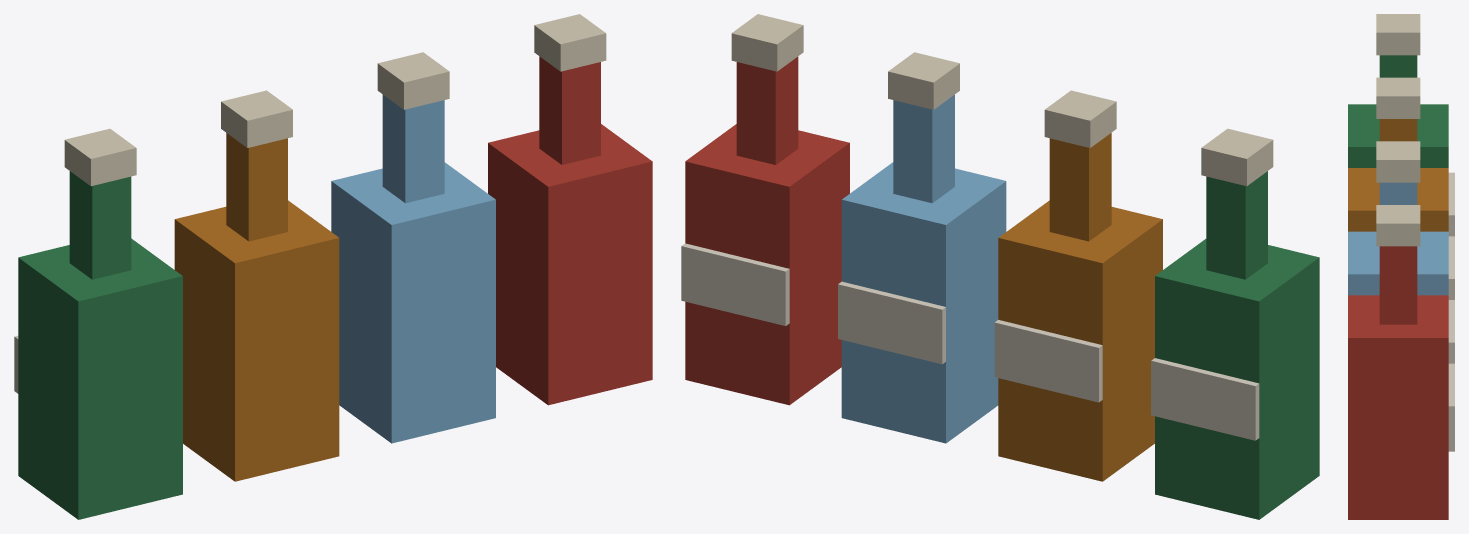
The model's file is cp-shelf-bottles.glb.
3 renders of one model, left to right at view 1: azimuth 30°, elevation 25°; view 2: azimuth 150°, elevation 25°; view 3: azimuth 270°, elevation 25°, orthographic. The views are drawn at different scales.
Visible parts, largest first — view 1: box-prop; view 2: box-prop; view 3: box-prop.
Boxes of the visible parts, <box> form: box-prop: <box>14,14,652,519</box>; box-prop: <box>681,14,1319,519</box>; box-prop: <box>1348,14,1454,519</box>.
Size of the model in its own units: 0.88 by 0.5 by 0.17.
